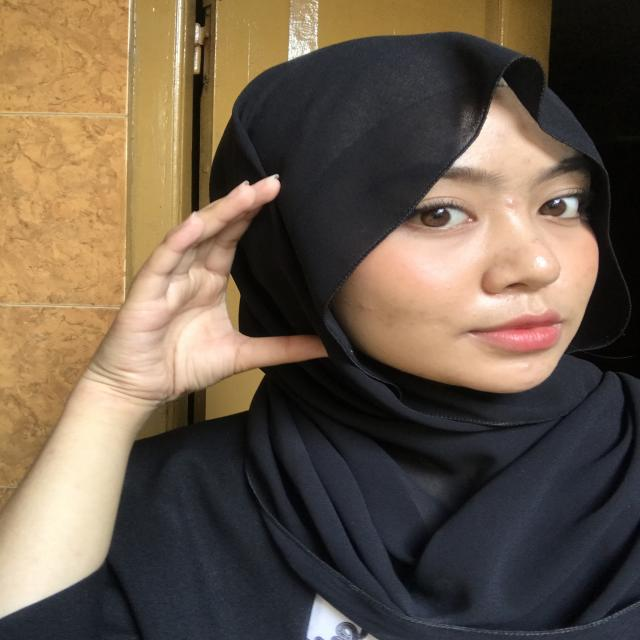mendengar: (116, 170, 342, 427)
